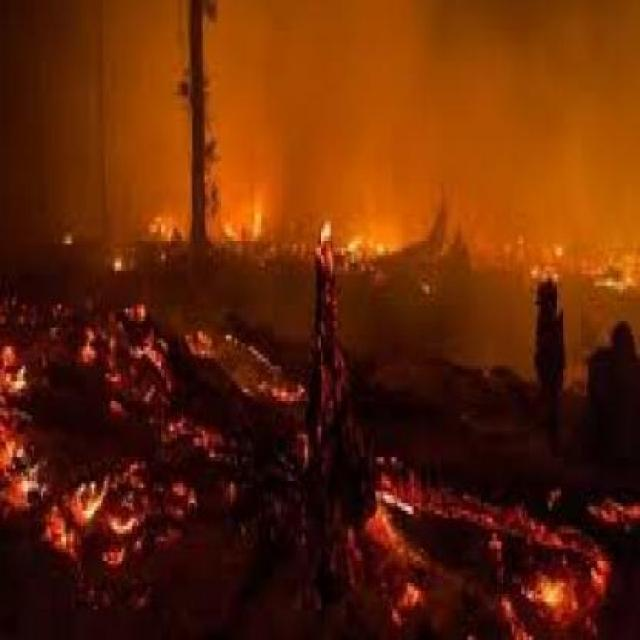Fire: (327, 441, 632, 640)
Smoke: (258, 4, 638, 190)
